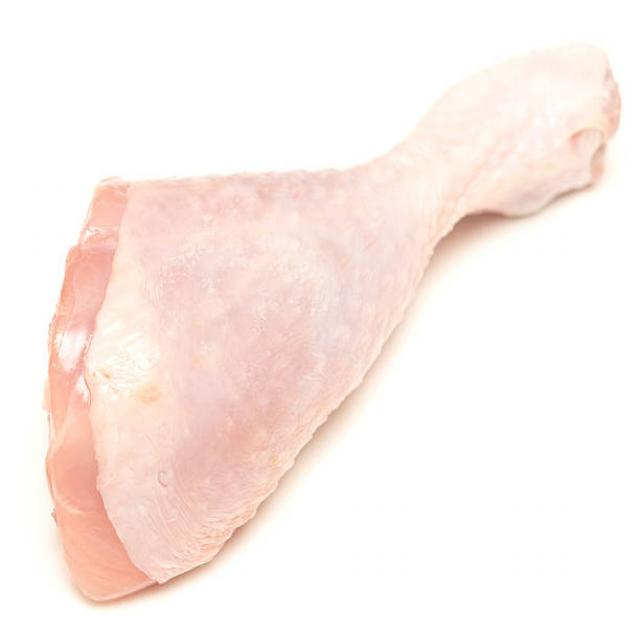Chicken: (28, 33, 635, 598)
